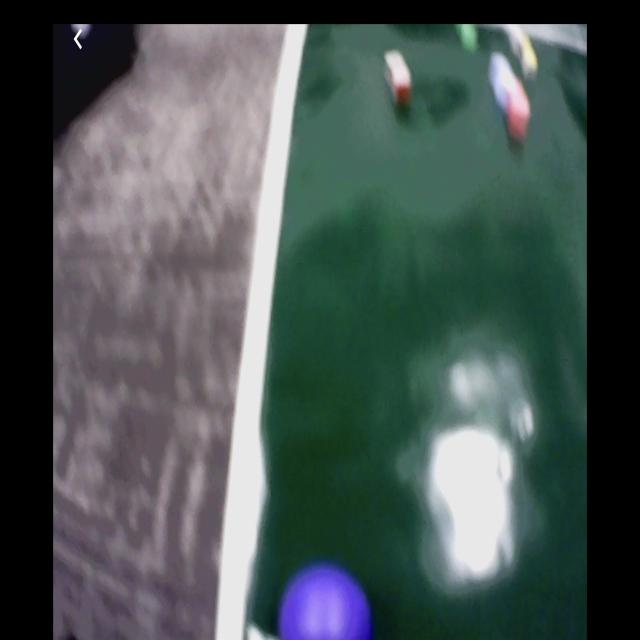ball: (278, 561, 376, 640)
